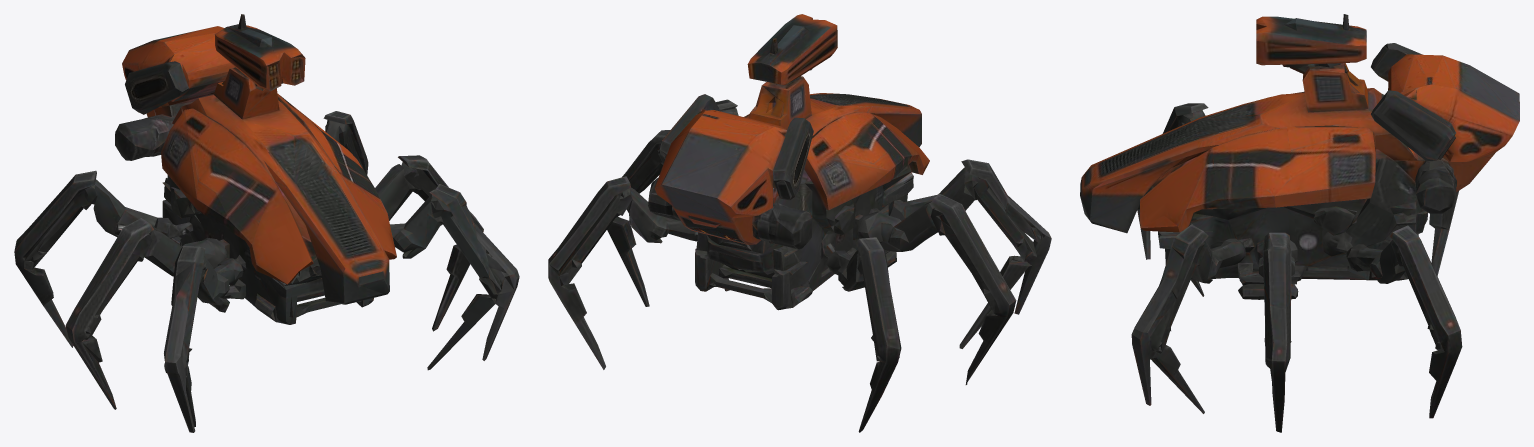
Rendered from enemy-mars-fighter.glb.
3 views of the same model, side by side, from view 1: azimuth 30°, elevation 25°; view 2: azimuth 150°, elevation 25°; view 3: azimuth 270°, elevation 25° (orthographic). The views are drawn at different scales.
Size of the model in its own units: 1.9 by 1.47 by 1.72.
1 material, 1 textured.
